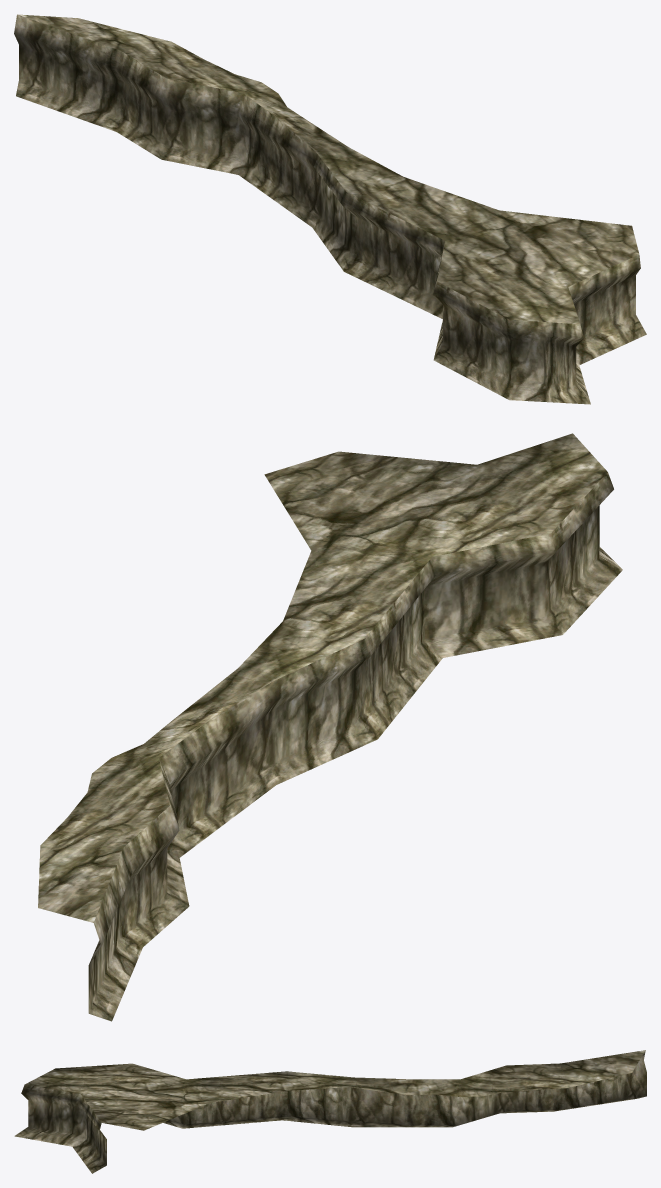
File: CB_NEWPLAYSURFACE_CB_PLAYSURFACE90.fbx
3 renders of one model, top to bottom at view 1: azimuth 30°, elevation 25°; view 2: azimuth 150°, elevation 25°; view 3: azimuth 270°, elevation 25°, orthographic. The views are drawn at different scales.
Parts seen in each view (by area): view 1: CB_NEWPLAYSURFACE_CB_PLAYSURFACE90; view 2: CB_NEWPLAYSURFACE_CB_PLAYSURFACE90; view 3: CB_NEWPLAYSURFACE_CB_PLAYSURFACE90.
Boxes of the visible parts, box(x1,y1,x2,y2) form: CB_NEWPLAYSURFACE_CB_PLAYSURFACE90: box(14, 14, 646, 404); CB_NEWPLAYSURFACE_CB_PLAYSURFACE90: box(38, 433, 622, 1021); CB_NEWPLAYSURFACE_CB_PLAYSURFACE90: box(14, 1050, 646, 1173).
Bounding box in the file's own units: 120059 × 34483 × 385791.
Materials: 2 (2 with a texture image).
